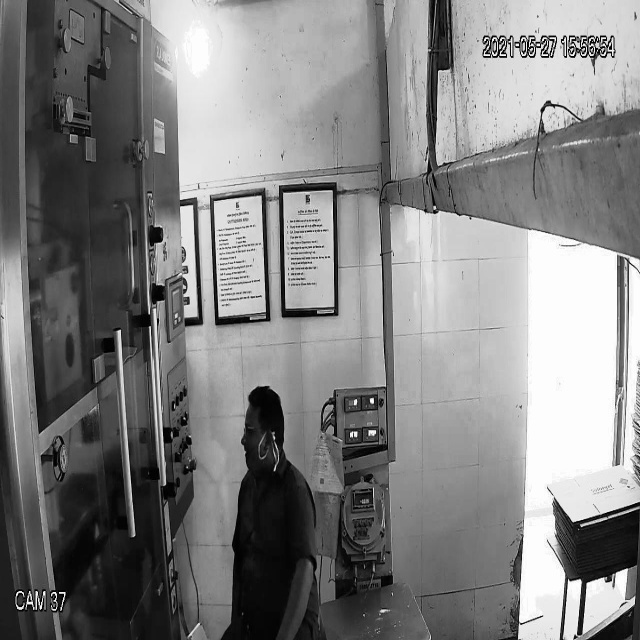Gafas: (241, 416, 278, 444)
